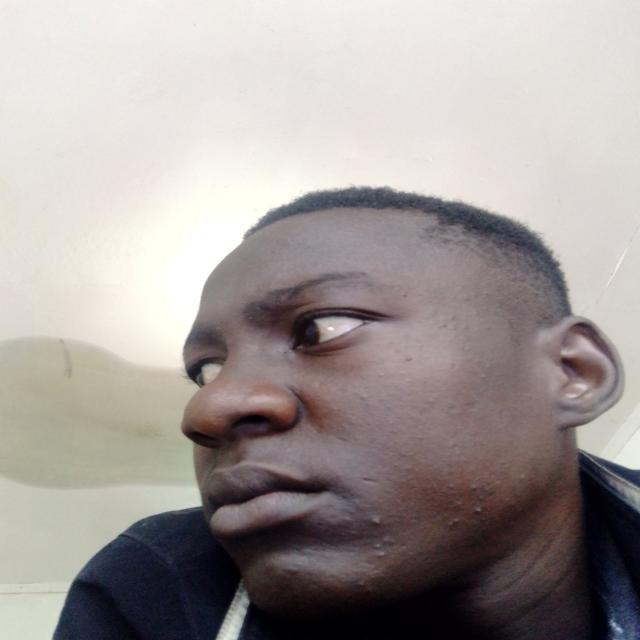Acne: (440, 312, 467, 331), (357, 391, 376, 410), (476, 360, 492, 380), (280, 564, 300, 577), (371, 542, 386, 558), (369, 515, 385, 529), (446, 440, 458, 457), (339, 514, 356, 526), (444, 516, 461, 526), (451, 498, 468, 508), (423, 396, 438, 406), (403, 353, 416, 361), (445, 481, 455, 491), (473, 505, 482, 516), (469, 483, 480, 492), (399, 464, 411, 472), (378, 371, 392, 376), (482, 289, 490, 297), (516, 473, 526, 479), (414, 434, 425, 439)
